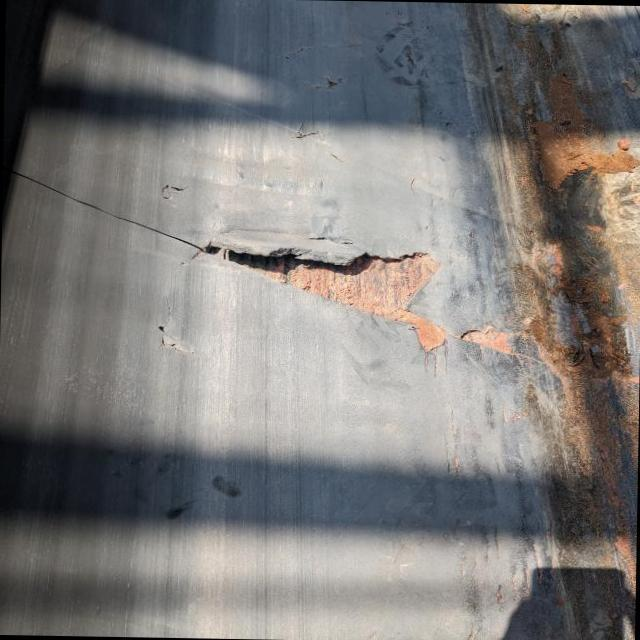Tear: (14, 171, 528, 360), (136, 288, 200, 352), (281, 38, 371, 62), (286, 115, 320, 144), (156, 178, 188, 206), (320, 74, 345, 92)
